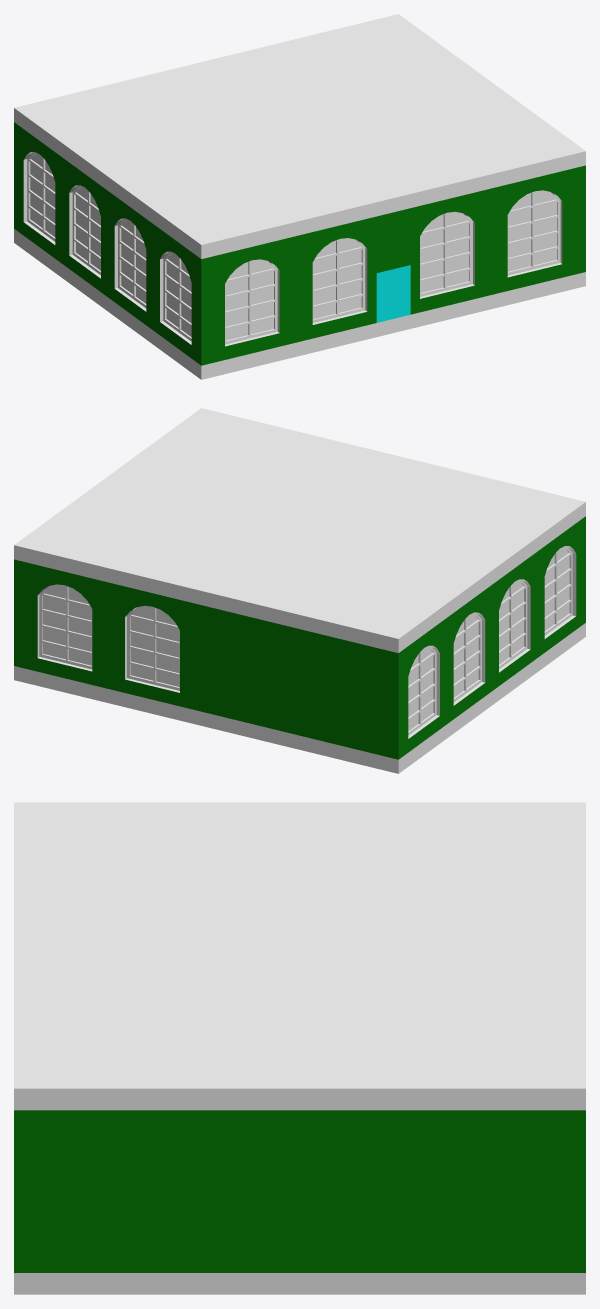
The model's file is ground floor 3-29.fbx.
The picture shows the model from 3 angles, top to bottom: view 1: azimuth 30°, elevation 25°; view 2: azimuth 150°, elevation 25°; view 3: azimuth 270°, elevation 25°; orthographic projection. The views are drawn at different scales.
Parts seen in each view (by area): view 1: roof_2, outer walls_2, window glass_2, window metal_2, floor_2, window frame_2, main door_2; view 2: roof_2, outer walls_2, window glass_2, floor_2, window metal_2, window frame_2; view 3: roof_2, outer walls_2, floor_2.
Part boxes in pixels (box(x1,y1,x2,y2)): roof_2: box(14, 14, 585, 258); outer walls_2: box(14, 122, 585, 365); window glass_2: box(30, 154, 556, 340); window metal_2: box(27, 152, 560, 344); floor_2: box(14, 229, 585, 379); window frame_2: box(23, 152, 562, 346); main door_2: box(376, 265, 410, 322); roof_2: box(14, 408, 585, 652); outer walls_2: box(14, 516, 585, 759); window glass_2: box(43, 548, 569, 730); floor_2: box(14, 607, 585, 773); window metal_2: box(39, 546, 572, 735); window frame_2: box(37, 546, 576, 738); roof_2: box(14, 802, 585, 1110); outer walls_2: box(14, 1110, 585, 1272); floor_2: box(14, 1273, 585, 1294).
Bounding box in the file's own units: 24.38 × 8.18 × 20.58.
